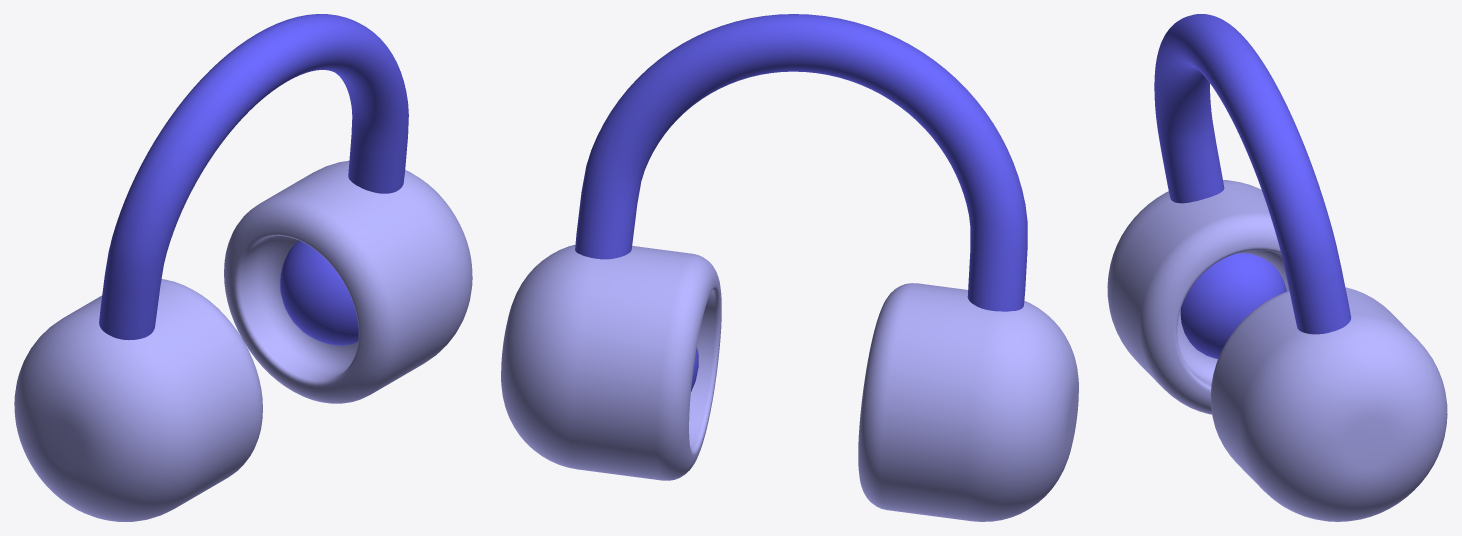
3 views of the same model, side by side, from view 1: azimuth 30°, elevation 25°; view 2: azimuth 150°, elevation 25°; view 3: azimuth 270°, elevation 25° (orthographic). The views are drawn at different scales.
Parts seen in each view (by area): view 1: Cylinder.001, Curve.002, Sphere; view 2: Cylinder.001, Curve.002; view 3: Cylinder.001, Curve.002, Sphere.
Boxes of the visible parts, x1,y1,x2,y2 form: Cylinder.001: (14,160,472,521); Curve.002: (99,14,408,340); Sphere: (280,241,358,345); Cylinder.001: (501,244,1078,521); Curve.002: (575,14,1027,311); Cylinder.001: (1107,180,1447,521); Curve.002: (1154,14,1351,334); Sphere: (1180,253,1286,359).
Bounding box in the file's own units: 0.5605 × 0.4954 × 0.3551.
